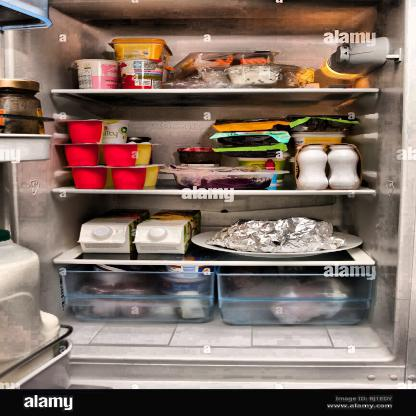cream_cheese: (110, 38, 172, 60)
milk: (80, 210, 147, 253), (136, 211, 197, 254)
yoghurt: (74, 58, 119, 89), (120, 58, 164, 89)
